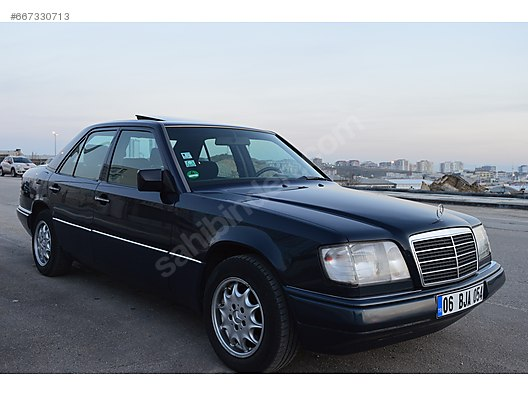mercedes: (15, 124, 503, 368)
